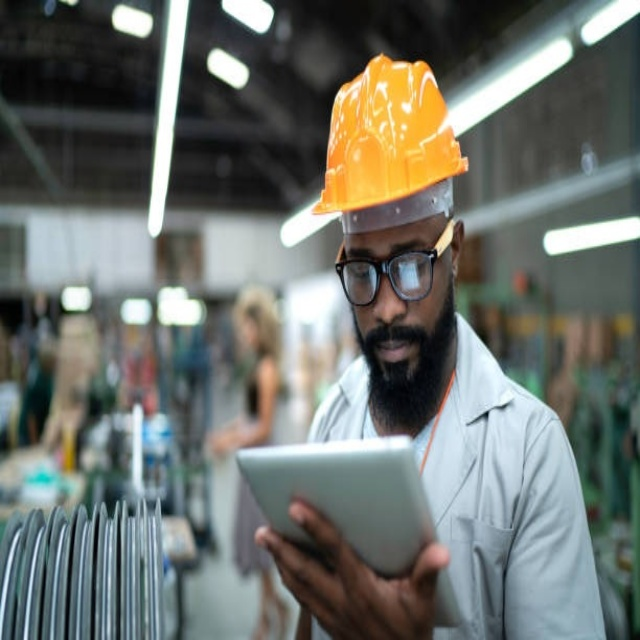Gafas: (334, 218, 454, 303)
Sin_guantes: (258, 487, 451, 640)
Sin_mascara: (371, 331, 419, 383)
